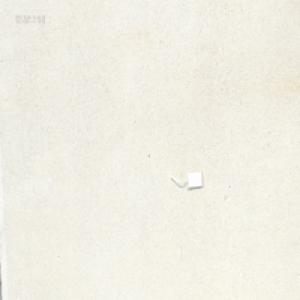LuggageTag: (169, 169, 203, 188)
